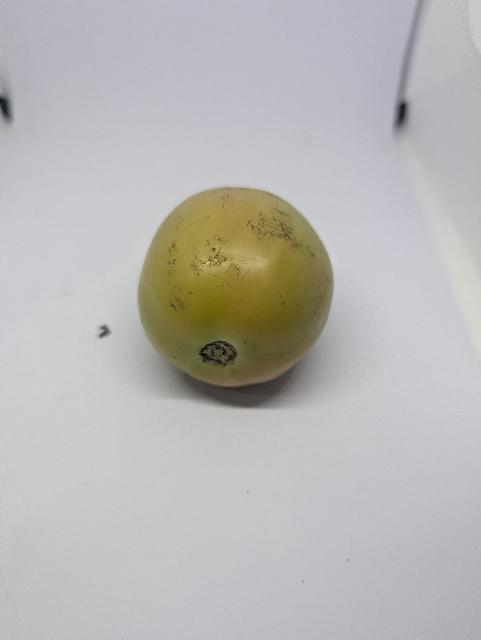breaker: (131, 183, 340, 392)
